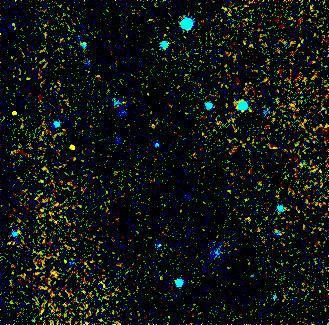star: (62, 128, 92, 158)
